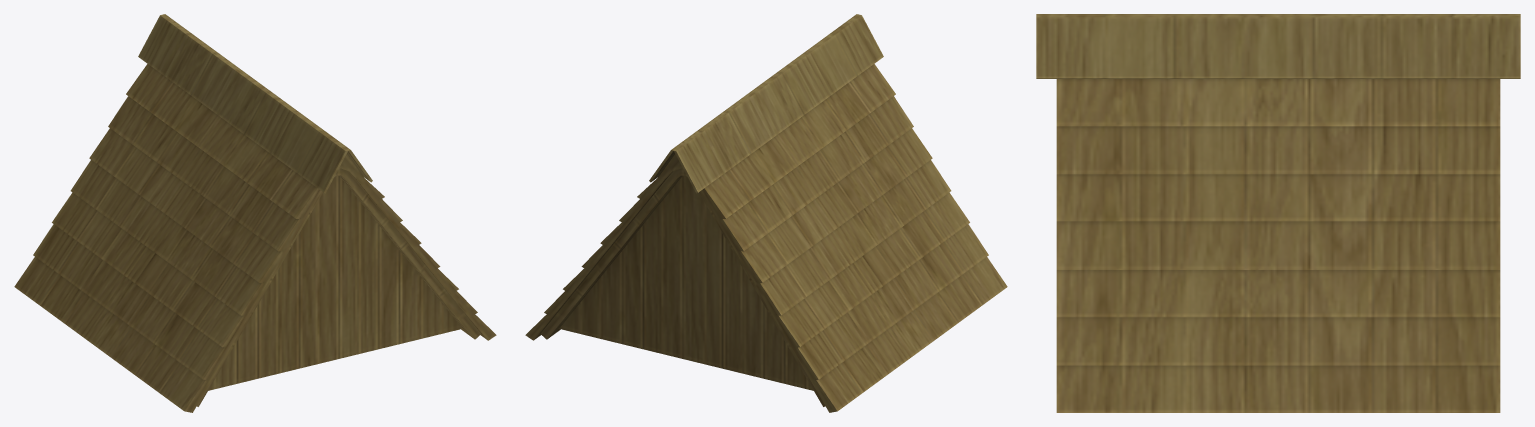
File: sb_obj_outdoor028_house03_roof_a.fbx
3 renders of one model, left to right at view 1: azimuth 30°, elevation 25°; view 2: azimuth 150°, elevation 25°; view 3: azimuth 270°, elevation 25°, orthographic. The views are drawn at different scales.
Parts seen in each view (by area): view 1: sb_obj_outdoor028_house03_roof_a; view 2: sb_obj_outdoor028_house03_roof_a; view 3: sb_obj_outdoor028_house03_roof_a.
Part boxes in pixels (x1,y1,x2,y2): sb_obj_outdoor028_house03_roof_a: (14, 14, 496, 412); sb_obj_outdoor028_house03_roof_a: (525, 14, 1007, 412); sb_obj_outdoor028_house03_roof_a: (1036, 14, 1520, 412).
Size of the model in its own units: 3.5 by 2.48 by 3.6.
